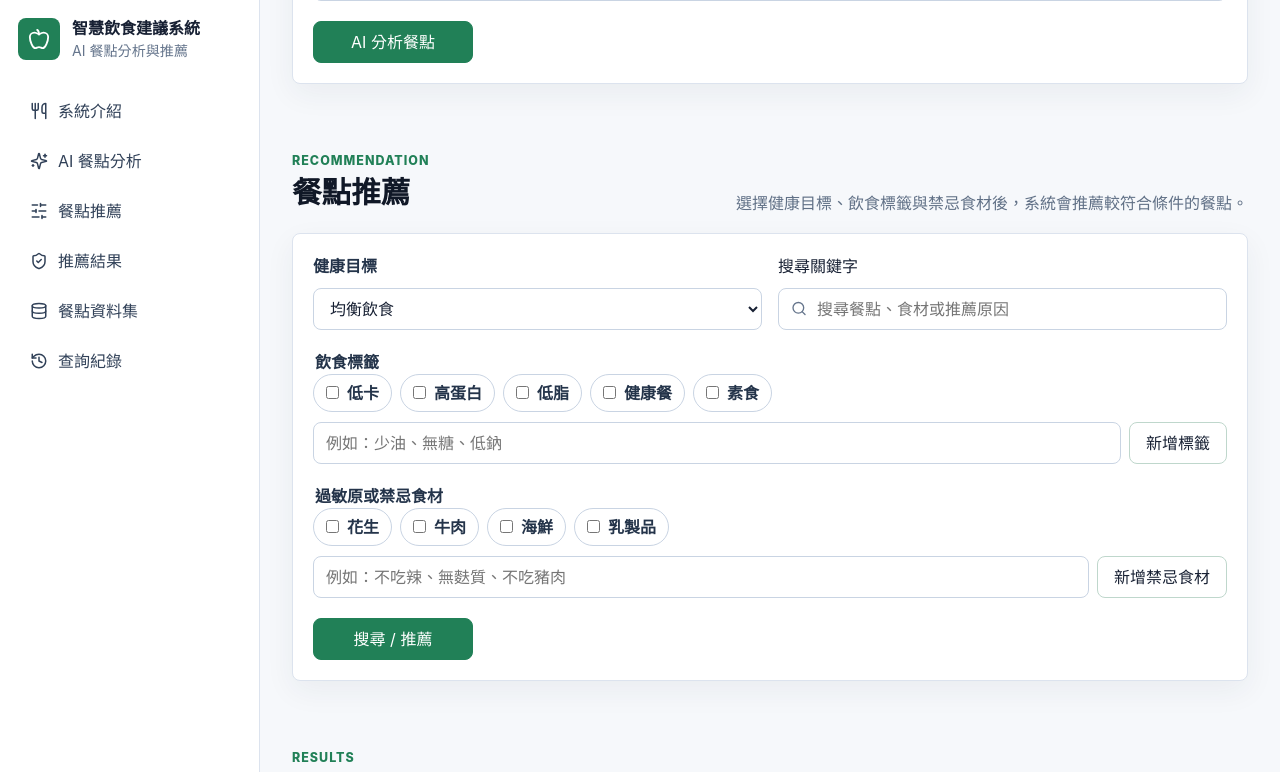
Scenario: App › adds query history after searching
(page scrolled)
Click the checkbox labelled "低卡" at (332, 393), box [326,386,339,399]
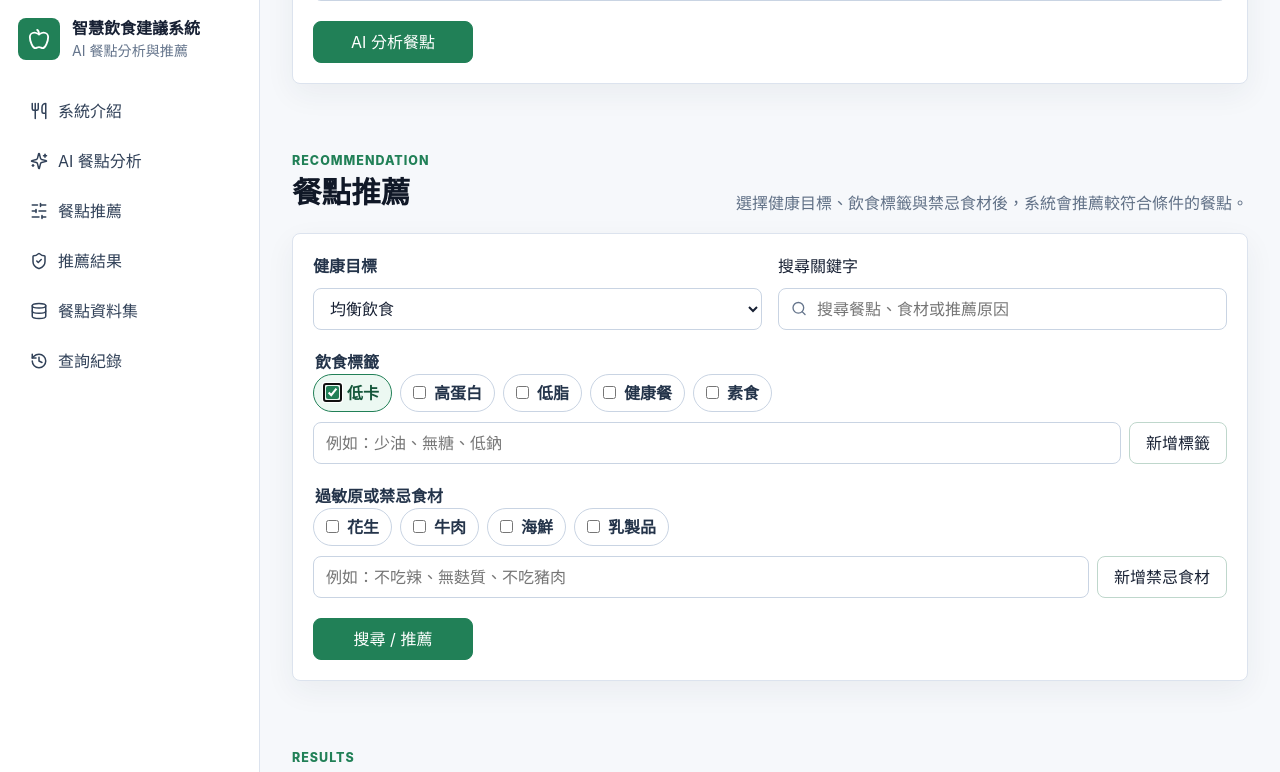
Click the button "搜尋 / 推薦" at (393, 639), box [313,618,473,660]
(page scrolled)
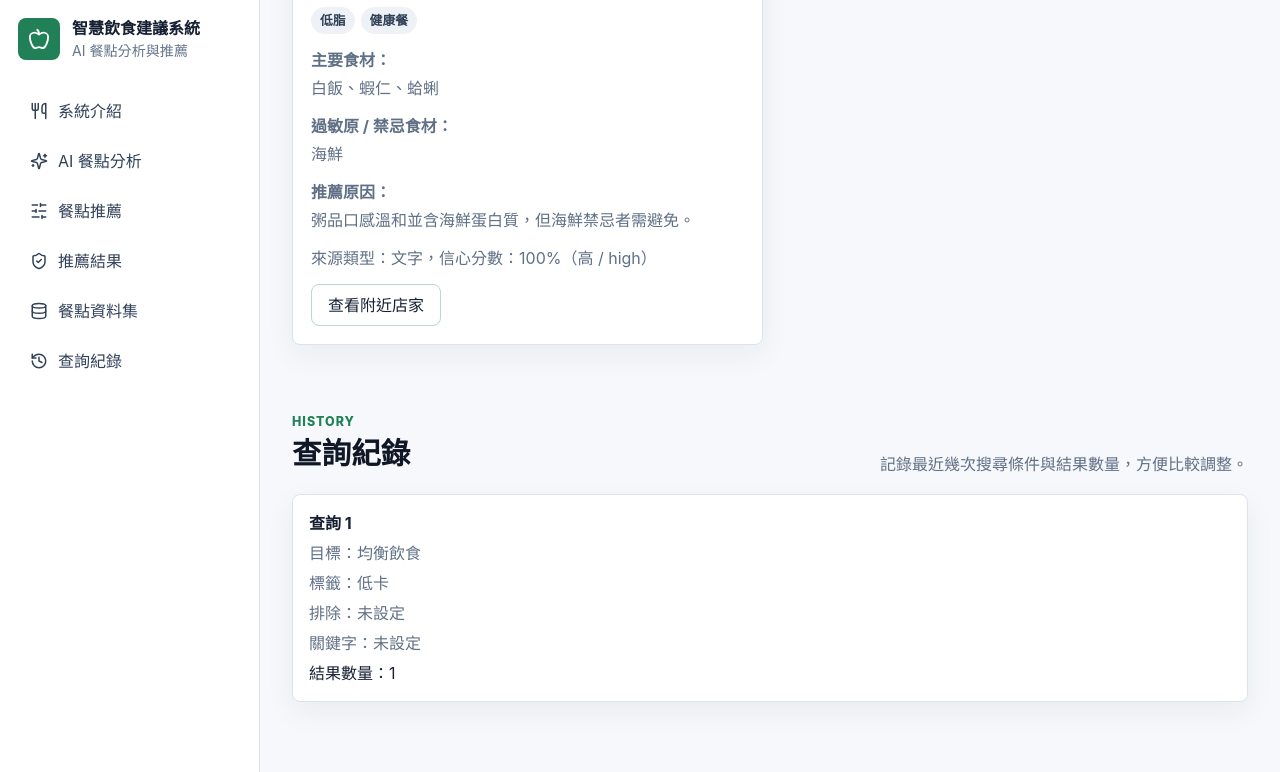
Result: the text "目標：均衡飲食" is shown at [309,543,421,563]
Result: the text "標籤：低卡" is shown at [309,573,389,593]
Result: the text "結果數量：1" is shown at [309,663,396,683]
